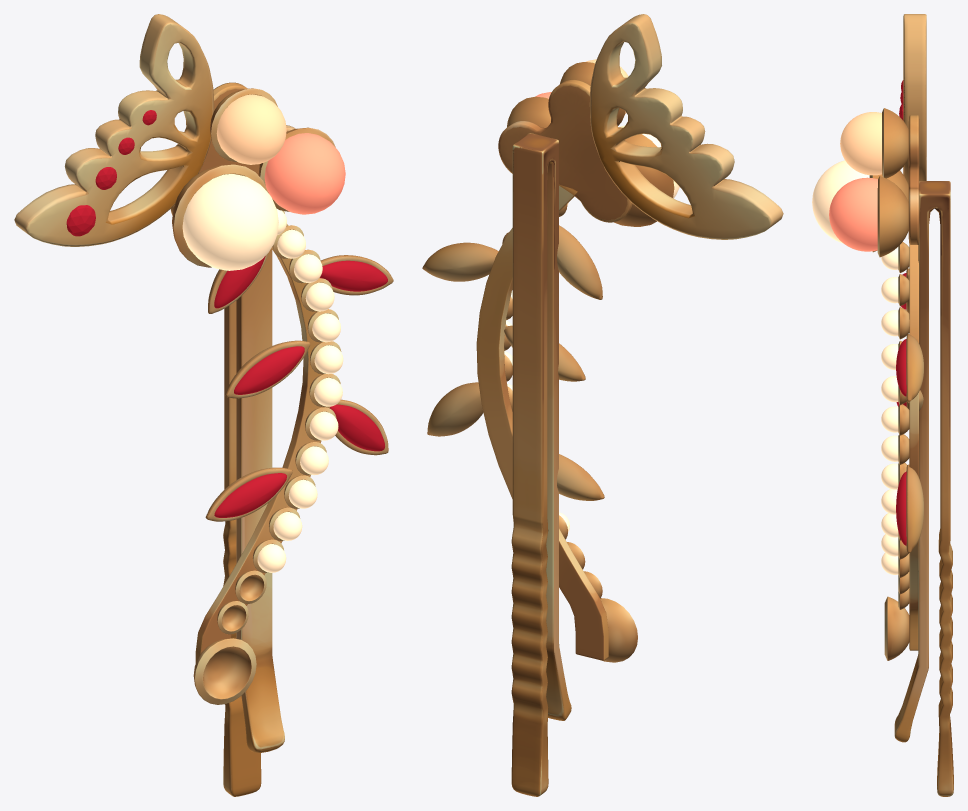
3 renders of one model, left to right at view 1: azimuth 30°, elevation 25°; view 2: azimuth 150°, elevation 25°; view 3: azimuth 270°, elevation 25°, orthographic. The views are drawn at different scales.
Parts seen in each view (by area): view 1: hairakuse; view 2: hairakuse; view 3: hairakuse.
Part boxes in pixels (left/top/right/bottom): hairakuse: left=14, top=14, right=393, bottom=796; hairakuse: left=422, top=14, right=783, bottom=796; hairakuse: left=812, top=14, right=953, bottom=796.
Bounding box in the file's own units: 72.64 × 152 × 26.6.
